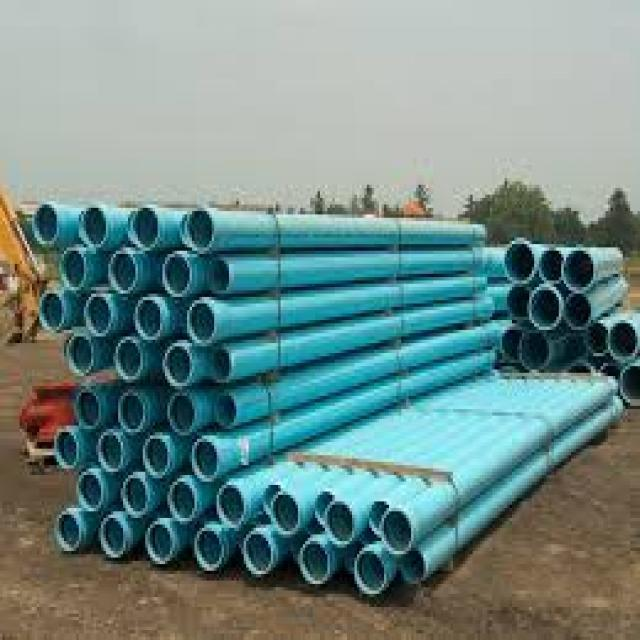pipe: (383, 510, 413, 553), (531, 286, 561, 327), (357, 551, 386, 592), (520, 330, 549, 371), (270, 492, 298, 534), (185, 209, 212, 251), (189, 301, 216, 343), (301, 540, 329, 580), (563, 249, 592, 287), (164, 345, 192, 384), (246, 529, 271, 572), (506, 241, 533, 280), (136, 299, 161, 340), (131, 206, 157, 245), (169, 393, 195, 432), (115, 340, 141, 378), (144, 437, 168, 478), (326, 502, 351, 541), (217, 487, 243, 524), (34, 205, 58, 245), (610, 323, 638, 357), (165, 252, 188, 293), (112, 252, 136, 291), (100, 432, 124, 471), (122, 476, 146, 515), (193, 440, 217, 478), (170, 481, 194, 519), (57, 510, 81, 548), (101, 515, 125, 553), (86, 295, 111, 331), (79, 470, 102, 509), (83, 207, 107, 244), (149, 524, 173, 561), (68, 334, 91, 372), (61, 250, 84, 287), (40, 293, 63, 330), (119, 395, 143, 430), (56, 429, 78, 467), (198, 530, 219, 568), (501, 327, 524, 361), (565, 295, 590, 326), (76, 391, 98, 426), (508, 285, 529, 319), (622, 367, 640, 405), (403, 552, 425, 582), (368, 500, 387, 533), (540, 249, 560, 280), (314, 492, 334, 523), (210, 258, 229, 289), (216, 393, 235, 424), (588, 323, 606, 353), (212, 351, 230, 380)
